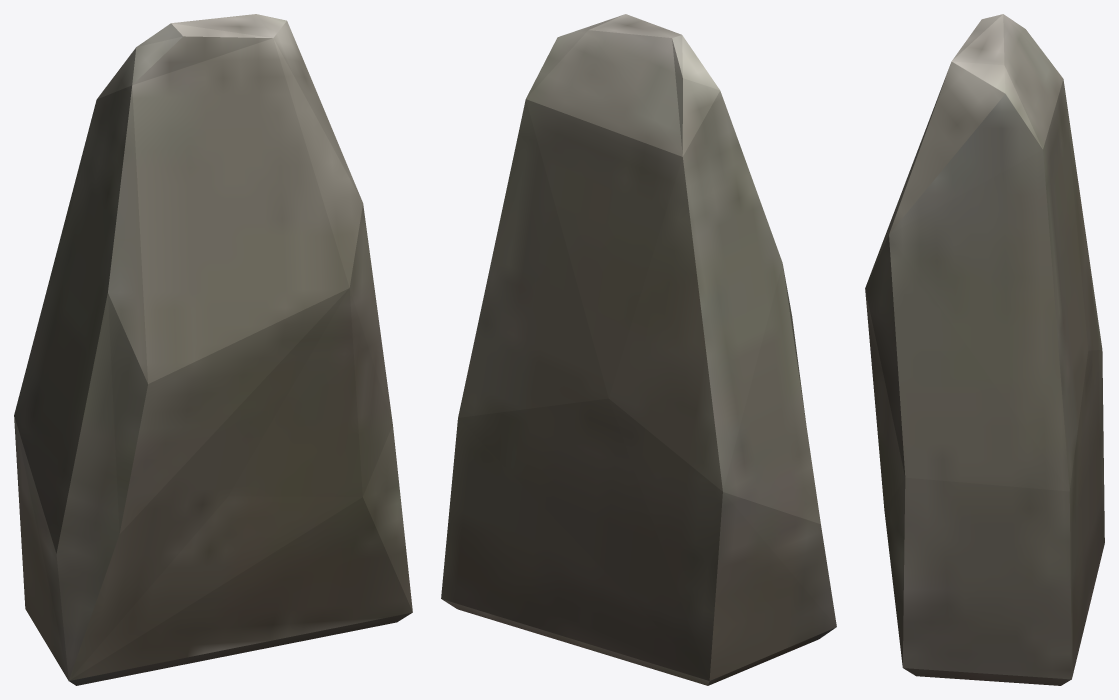
File: rock_08.glb
3 views of the same model, side by side, from view 1: azimuth 30°, elevation 25°; view 2: azimuth 150°, elevation 25°; view 3: azimuth 270°, elevation 25° (orthographic). The views are drawn at different scales.
Parts seen in each view (by area): view 1: SM_Rocks_08_RocksStylized_M_0; view 2: SM_Rocks_08_RocksStylized_M_0; view 3: SM_Rocks_08_RocksStylized_M_0.
Part boxes in pixels (x1=…): SM_Rocks_08_RocksStylized_M_0: x1=14, y1=14, x2=412, y2=685; SM_Rocks_08_RocksStylized_M_0: x1=441, y1=14, x2=836, y2=685; SM_Rocks_08_RocksStylized_M_0: x1=865, y1=14, x2=1104, y2=685.
Bounding box in the file's own units: 1.46 × 2.54 × 0.9448.
Materials: 1 (1 with a texture image).
